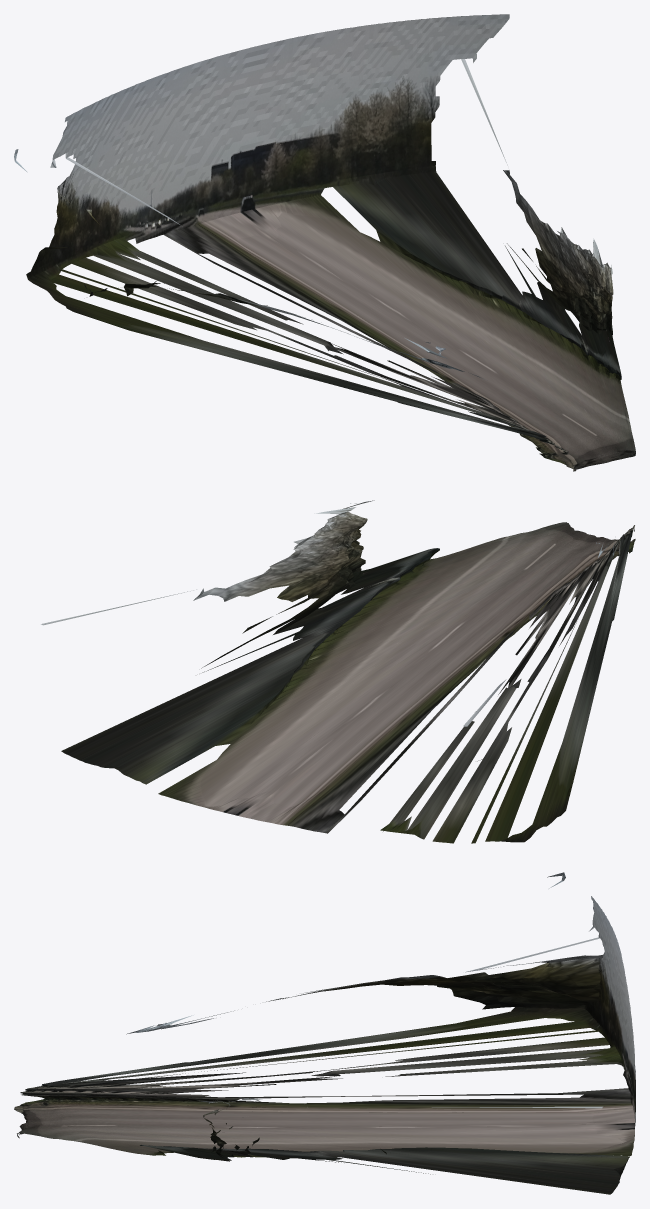
3 renders of one model, top to bottom at view 1: azimuth 30°, elevation 25°; view 2: azimuth 150°, elevation 25°; view 3: azimuth 270°, elevation 25°, orthographic. The views are drawn at different scales.
Visible parts, largest first — view 1: defaultobject; view 2: defaultobject; view 3: defaultobject.
Part boxes in pixels (left/top/right/bottom): defaultobject: left=14, top=14, right=635, bottom=471; defaultobject: left=41, top=500, right=635, bottom=843; defaultobject: left=14, top=872, right=635, bottom=1194.
Size of the model in its own units: 36.94 by 12.05 by 44.72.
1 material, 1 textured.
